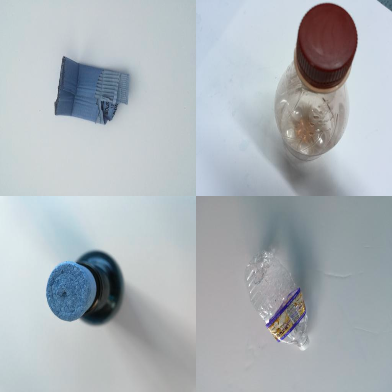cardboard: (54, 56, 131, 126)
glass: (46, 250, 122, 327)
plastic: (275, 2, 358, 164), (244, 251, 312, 350)
